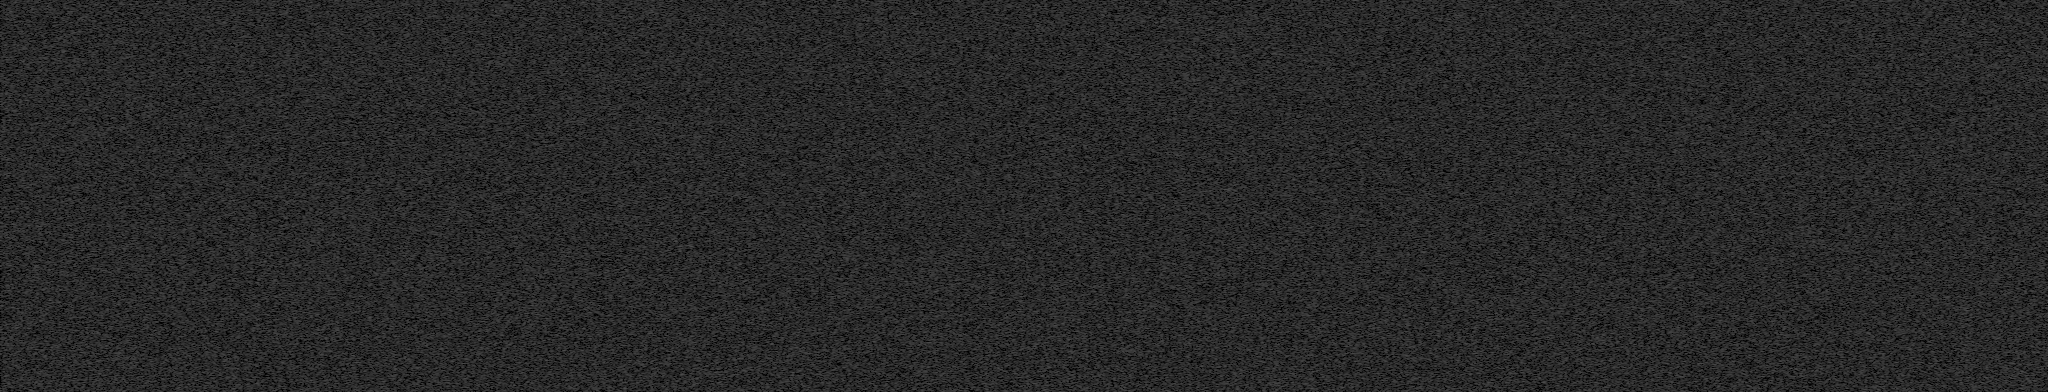wv_am: (1147, 0, 1153, 392), (18, 0, 24, 233), (18, 234, 24, 392)
wv_lsb: (532, 1, 538, 392)
wv_usb: (1344, 135, 1351, 392), (1345, 85, 1351, 129), (1345, 20, 1351, 47), (1345, 48, 1351, 72), (1345, 3, 1351, 18), (1345, 73, 1349, 84), (1345, 131, 1349, 135)
wv_wbfm: (758, 0, 816, 392), (1042, 0, 1100, 392)
